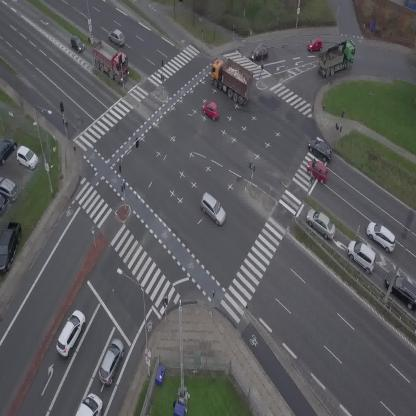car: (51, 308, 90, 358), (94, 336, 128, 387), (341, 236, 383, 275), (301, 205, 341, 242), (362, 218, 401, 255), (195, 191, 231, 227), (305, 135, 337, 164), (303, 157, 333, 184), (199, 98, 224, 121), (106, 26, 128, 48), (66, 33, 87, 55), (250, 46, 269, 61), (308, 37, 322, 52)
lorry: (201, 52, 261, 107), (83, 35, 137, 86), (312, 37, 363, 79), (75, 393, 102, 416)
